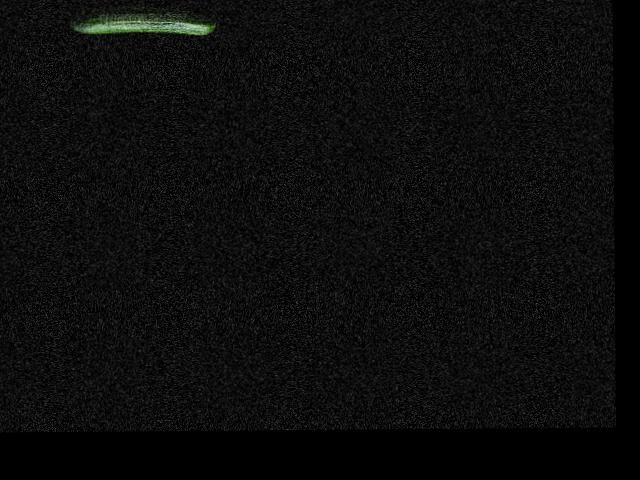cucumber: (70, 12, 217, 35)
